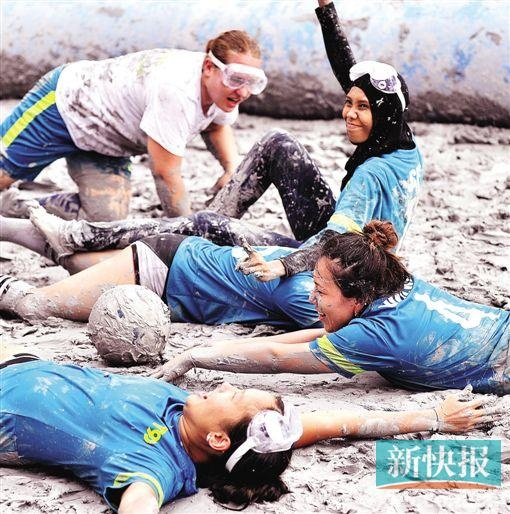falling: (14, 337, 280, 511)
